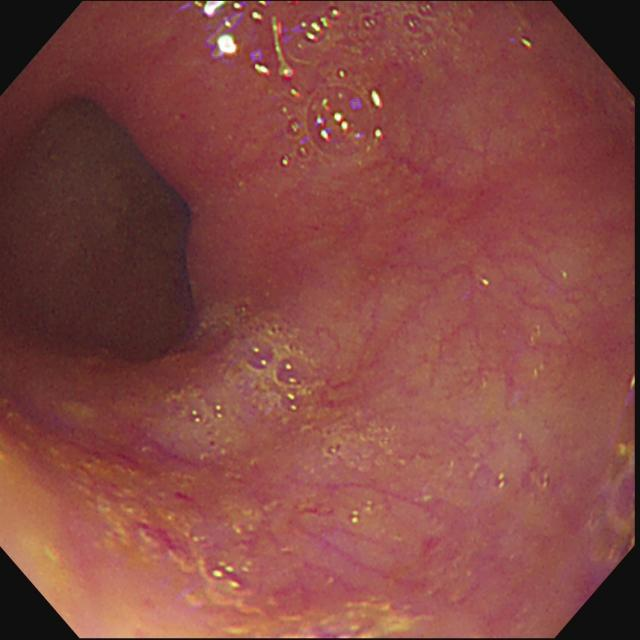E: (2, 87, 212, 378)
T: (172, 304, 323, 427), (100, 493, 256, 596), (296, 3, 469, 81), (282, 84, 385, 168), (323, 423, 395, 463)
U: (272, 16, 295, 79), (214, 32, 241, 58), (194, 2, 229, 20), (234, 2, 267, 21), (252, 62, 272, 79)
